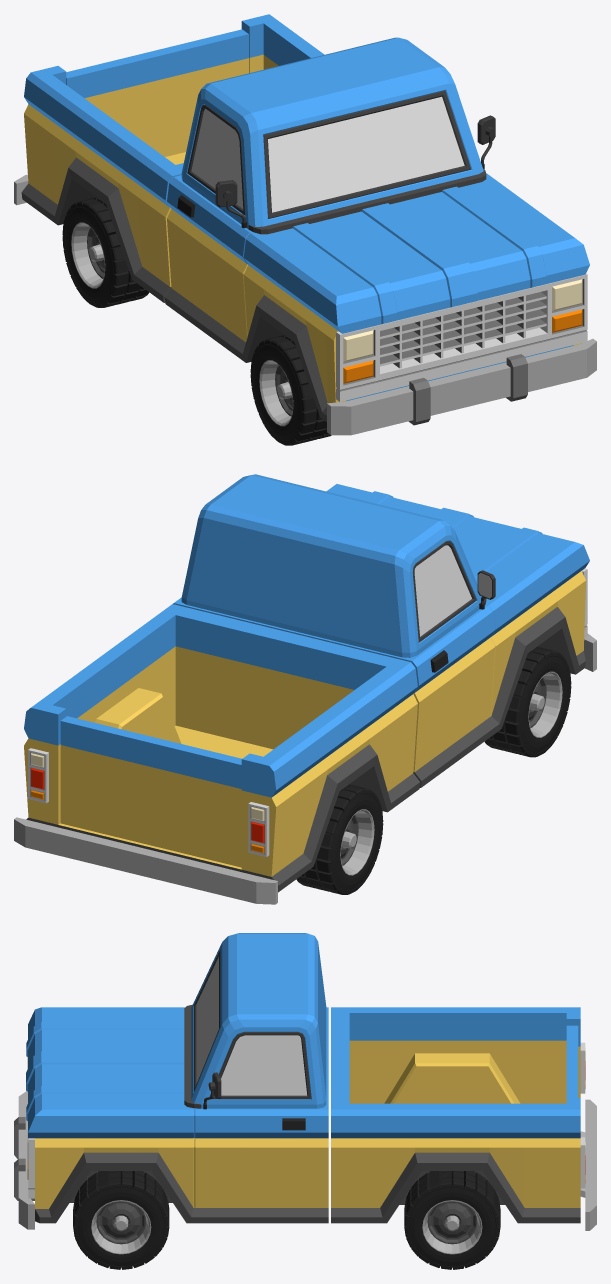
The model's file is Mini_Pickup_truck_2.fbx.
The picture shows the model from 3 angles, top to bottom: view 1: azimuth 30°, elevation 25°; view 2: azimuth 150°, elevation 25°; view 3: azimuth 270°, elevation 25°; orthographic projection. The views are drawn at different scales.
Visible parts, largest first — view 1: Pickup_Truck_02, Pickup_Truck_02_Glass, Pickup_Truck_02_Wheel_RR, Pickup_Truck_02_Wheel_FR, Pickup_Truck_02_Lights; view 2: Pickup_Truck_02, Pickup_Truck_02_Wheel_FR, Pickup_Truck_02_Wheel_RR, Pickup_Truck_02_Glass, Pickup_Truck_02_Lights; view 3: Pickup_Truck_02, Pickup_Truck_02_Wheel_RL, Pickup_Truck_02_Wheel_FL, Pickup_Truck_02_Glass.
Part boxes in pixels (x1,y1,x2,y2): Pickup_Truck_02: [14, 14, 596, 435]; Pickup_Truck_02_Glass: [191, 96, 464, 212]; Pickup_Truck_02_Wheel_RR: [62, 197, 149, 307]; Pickup_Truck_02_Wheel_FR: [250, 335, 331, 445]; Pickup_Truck_02_Lights: [343, 279, 582, 383]; Pickup_Truck_02: [14, 474, 596, 904]; Pickup_Truck_02_Wheel_FR: [484, 646, 571, 757]; Pickup_Truck_02_Wheel_RR: [296, 784, 383, 894]; Pickup_Truck_02_Glass: [414, 545, 471, 636]; Pickup_Truck_02_Lights: [31, 753, 264, 853]; Pickup_Truck_02: [14, 933, 596, 1230]; Pickup_Truck_02_Wheel_RL: [404, 1171, 500, 1269]; Pickup_Truck_02_Wheel_FL: [73, 1171, 169, 1269]; Pickup_Truck_02_Glass: [196, 957, 307, 1095].
Bounding box in the file's own units: 122 × 113 × 250.
